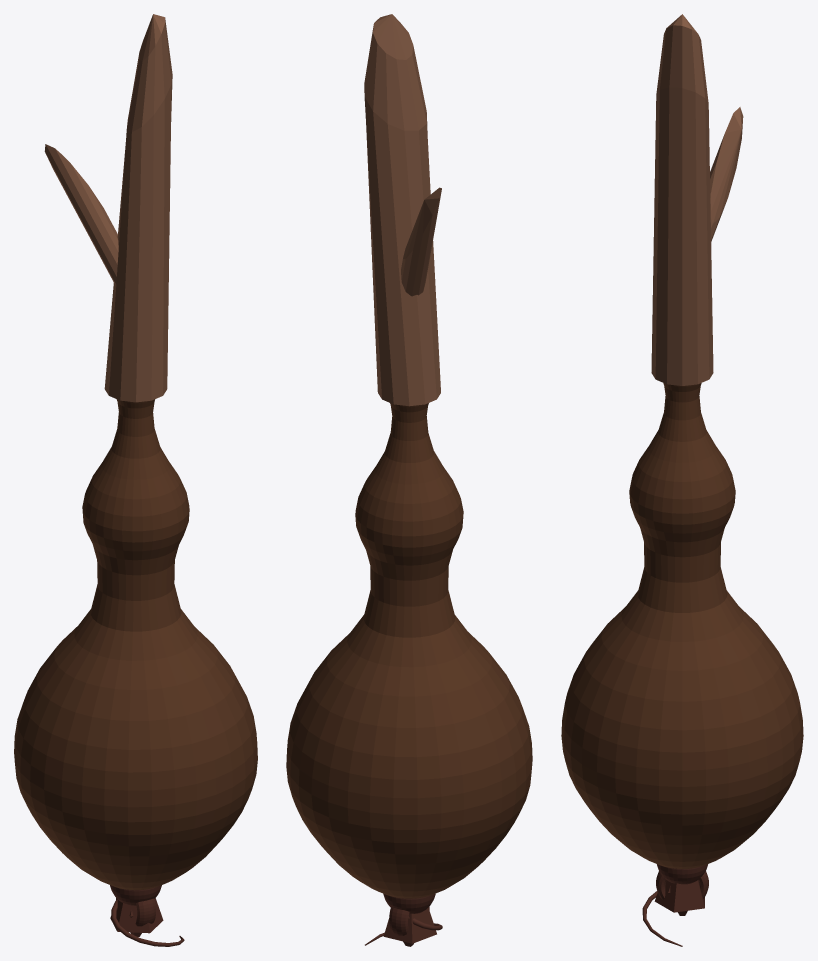
File: Wand 663.glb
The picture shows the model from 3 angles, left to right: view 1: azimuth 30°, elevation 25°; view 2: azimuth 150°, elevation 25°; view 3: azimuth 270°, elevation 25°; orthographic projection.
Parts seen in each view (by area): view 1: GeneratedWand, Pommel_9, Pommel_4; view 2: GeneratedWand, Pommel_9, Pommel_4; view 3: GeneratedWand, Pommel_9, Pommel_4.
Boxes of the visible parts, bbox=[...] form: GeneratedWand: bbox=[14, 14, 257, 890]; Pommel_9: bbox=[110, 898, 163, 933]; Pommel_4: bbox=[110, 885, 161, 905]; GeneratedWand: bbox=[286, 14, 532, 898]; Pommel_9: bbox=[383, 907, 436, 943]; Pommel_4: bbox=[383, 893, 435, 913]; GeneratedWand: bbox=[561, 14, 803, 869]; Pommel_9: bbox=[654, 880, 704, 912]; Pommel_4: bbox=[657, 864, 707, 884].
Bounding box in the file's own units: 0.123 × 0.5156 × 0.123.
